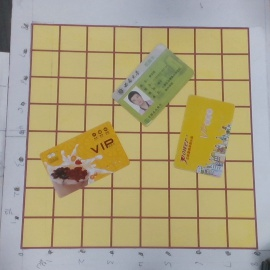card: (112, 41, 196, 127), (39, 121, 132, 198), (174, 96, 235, 178)
